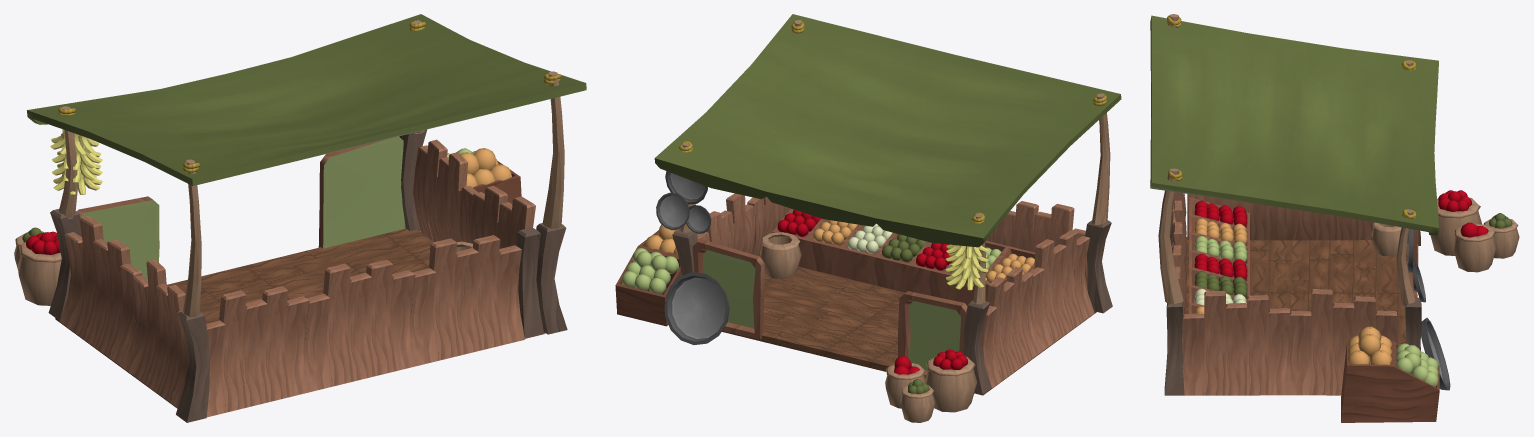
Rendered from stand.fbx.
3 views of the same model, side by side, from view 1: azimuth 30°, elevation 25°; view 2: azimuth 150°, elevation 25°; view 3: azimuth 270°, elevation 25° (orthographic). The views are drawn at different scales.
Parts seen in each view (by area): view 1: pPlane2; view 2: pPlane2; view 3: pPlane2.
Boxes of the visible parts, x1,y1,x2,y2 form: pPlane2: (14,14,586,422); pPlane2: (615,14,1121,422); pPlane2: (1150,14,1519,422).
Size of the model in its own units: 372 by 213 by 310.
